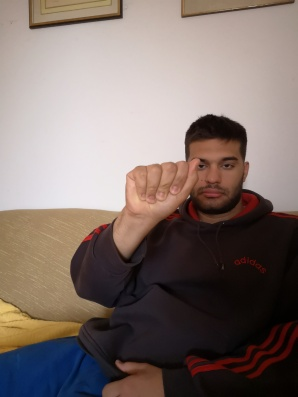A: (121, 156, 203, 217)
